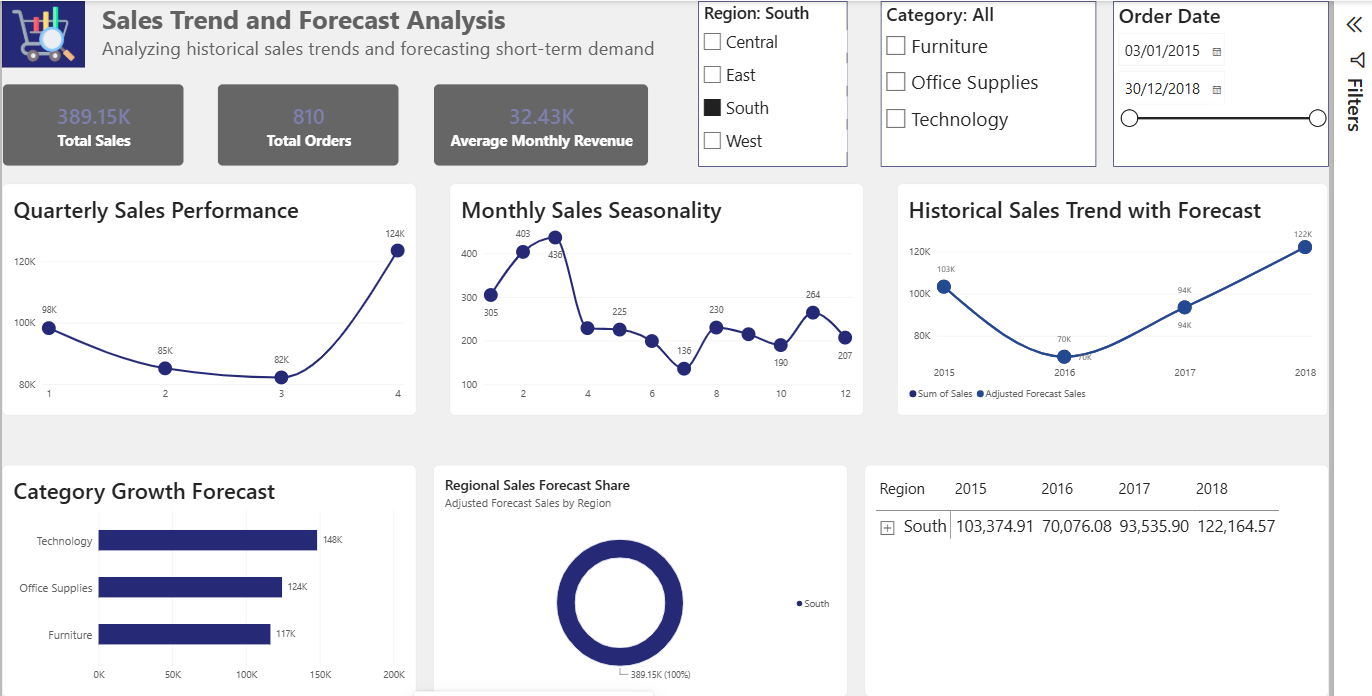

The dashboard page shown, as its layout file describes it:
{"tool":"powerbi","page":{"name":"Sales Trend and Forecast Analysis","canvas":[1920,1080],"ordinal":1},"visuals":[{"type":"textbox","box":[144,0,816,288],"z":0},{"type":"shape","box":[0,0,120,96],"z":1000},{"type":"image","box":[0,0,120,96],"z":2000},{"type":"shape","box":[1008,0,216,240],"z":3000},{"type":"shape","box":[1272,0,312,240],"z":4000},{"type":"shape","box":[1608,0,312,240],"z":5000},{"type":"slicer","fields":{"Values":["superstore_enhanced.Region"]},"box":[1008,0,216,240],"z":6000},{"type":"slicer","fields":{"Values":["superstore_enhanced.Category"]},"box":[1272,0,288,288],"z":7000},{"type":"slicer","fields":{"Values":["superstore_enhanced.Order Date"]},"box":[1608,0,312,240],"z":7001},{"type":"cardVisual","fields":{"Data":["superstore_enhanced.Total Sales"]},"box":[0,120,264,120],"z":7002},{"type":"cardVisual","fields":{"Data":["superstore_enhanced.Total Orders"]},"box":[312,120,264,120],"z":7003},{"type":"cardVisual","fields":{"Data":["superstore_enhanced.Average Monthly Revenue"]},"box":[624,120,312,120],"z":7004},{"type":"lineChart","title":"Quarterly Sales Performance","fields":{"Category":["Dim_Date.Quarter"],"Y":["Sum(superstore_enhanced.Sales)"]},"box":[0,264,600,336],"z":7005},{"type":"lineChart","title":"Monthly Sales Seasonality","fields":{"Category":["Dim_Date.Month"],"Y":["Avg(superstore_enhanced.Sales)"]},"box":[648,264,600,336],"z":7006},{"type":"lineChart","title":"Historical Sales Trend with Forecast","fields":{"Category":["Dim_Date.Year"],"Y":["Sum(superstore_enhanced.Sales)","superstore_enhanced.Adjusted Forecast Sales"]},"box":[1296,264,624,336],"z":7007},{"type":"clusteredBarChart","title":"Category Growth Forecast","fields":{"Category":["superstore_enhanced.Category"],"Y":["superstore_enhanced.Adjusted Forecast Sales"]},"box":[0,672,600,336],"z":7009},{"type":"donutChart","title":"Regional Sales Forecast Share","fields":{"Category":["superstore_enhanced.Region"],"Y":["superstore_enhanced.Adjusted Forecast Sales"]},"box":[624,672,600,336],"z":7010},{"type":"pivotTable","fields":{"Columns":["Dim_Date.Year"],"Rows":["superstore_enhanced.Region","superstore_enhanced.Category"],"Values":["superstore_enhanced.Adjusted Forecast Sales"]},"box":[1248,672,672,336],"z":7011}]}

Visuals, with their boxes on the page's 1920x1080 design canvas (x1, y1, x2, y2). These are canvas units, not pixel positions in the 1372x696 screenshot, which may show the page scaled, cropped or inside an application window:
textbox: 144,0,960,288
shape: 0,0,120,96
image: 0,0,120,96
shape: 1008,0,1224,240
shape: 1272,0,1584,240
shape: 1608,0,1920,240
slicer - superstore_enhanced.Region: 1008,0,1224,240
slicer - superstore_enhanced.Category: 1272,0,1560,288
slicer - superstore_enhanced.Order Date: 1608,0,1920,240
cardVisual - superstore_enhanced.Total Sales: 0,120,264,240
cardVisual - superstore_enhanced.Total Orders: 312,120,576,240
cardVisual - superstore_enhanced.Average Monthly Revenue: 624,120,936,240
"Quarterly Sales Performance" lineChart: 0,264,600,600
"Monthly Sales Seasonality" lineChart: 648,264,1248,600
"Historical Sales Trend with Forecast" lineChart: 1296,264,1920,600
"Category Growth Forecast" clusteredBarChart: 0,672,600,1008
"Regional Sales Forecast Share" donutChart: 624,672,1224,1008
pivotTable - Dim_Date.Year x superstore_enhanced.Region: 1248,672,1920,1008
